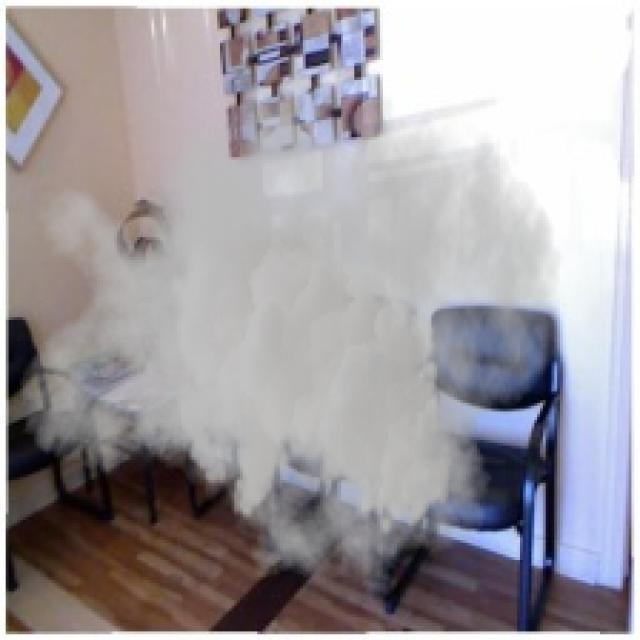Smoke: (17, 31, 563, 600)
